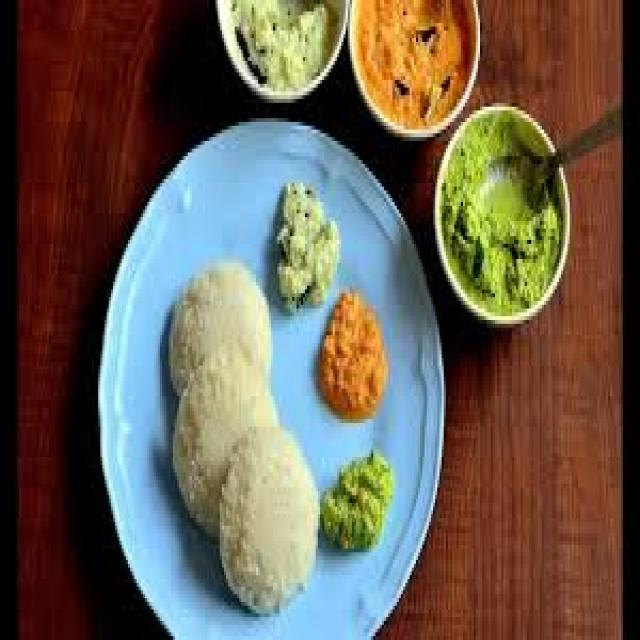IDLI: (173, 339, 275, 533), (220, 427, 316, 606), (169, 263, 269, 392)
